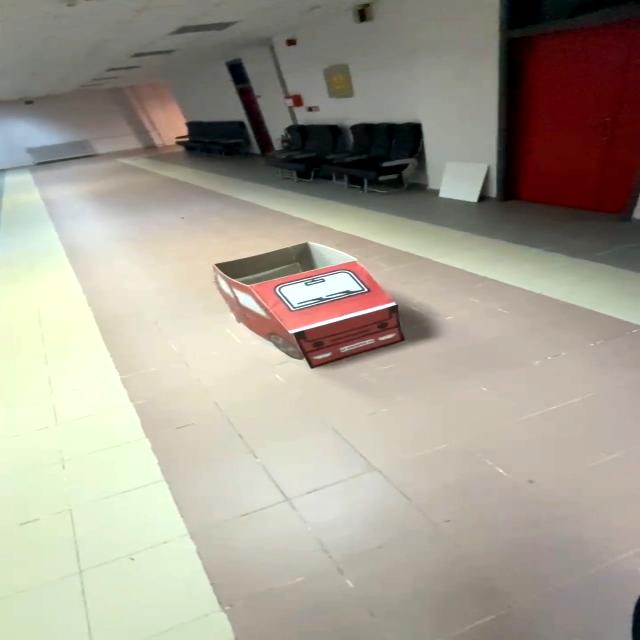red_car: (185, 230, 438, 383)
